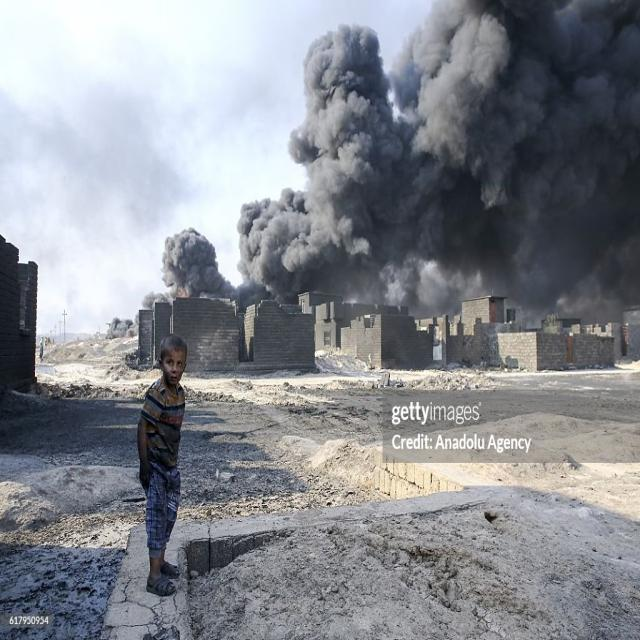Smoke: (161, 0, 640, 296), (105, 312, 139, 339)
